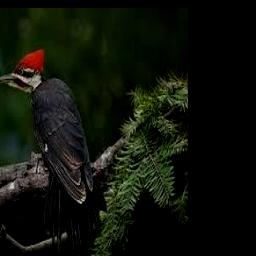Woodpecker: (0, 46, 106, 256)
